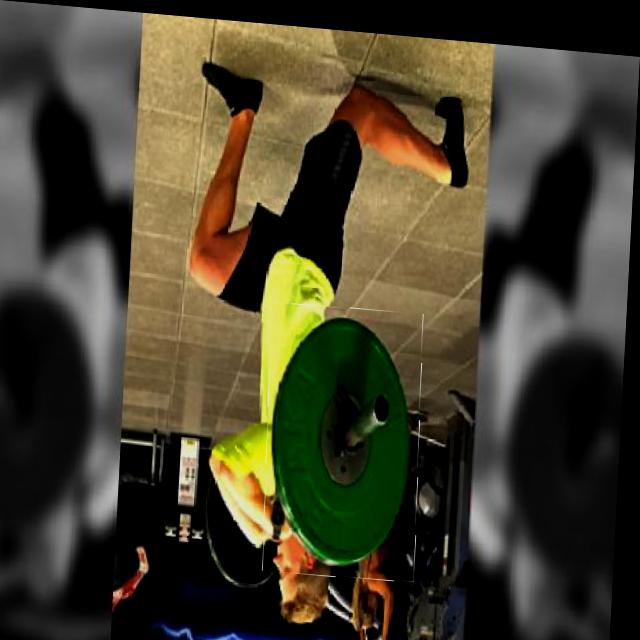barbell: (267, 297, 431, 576)
